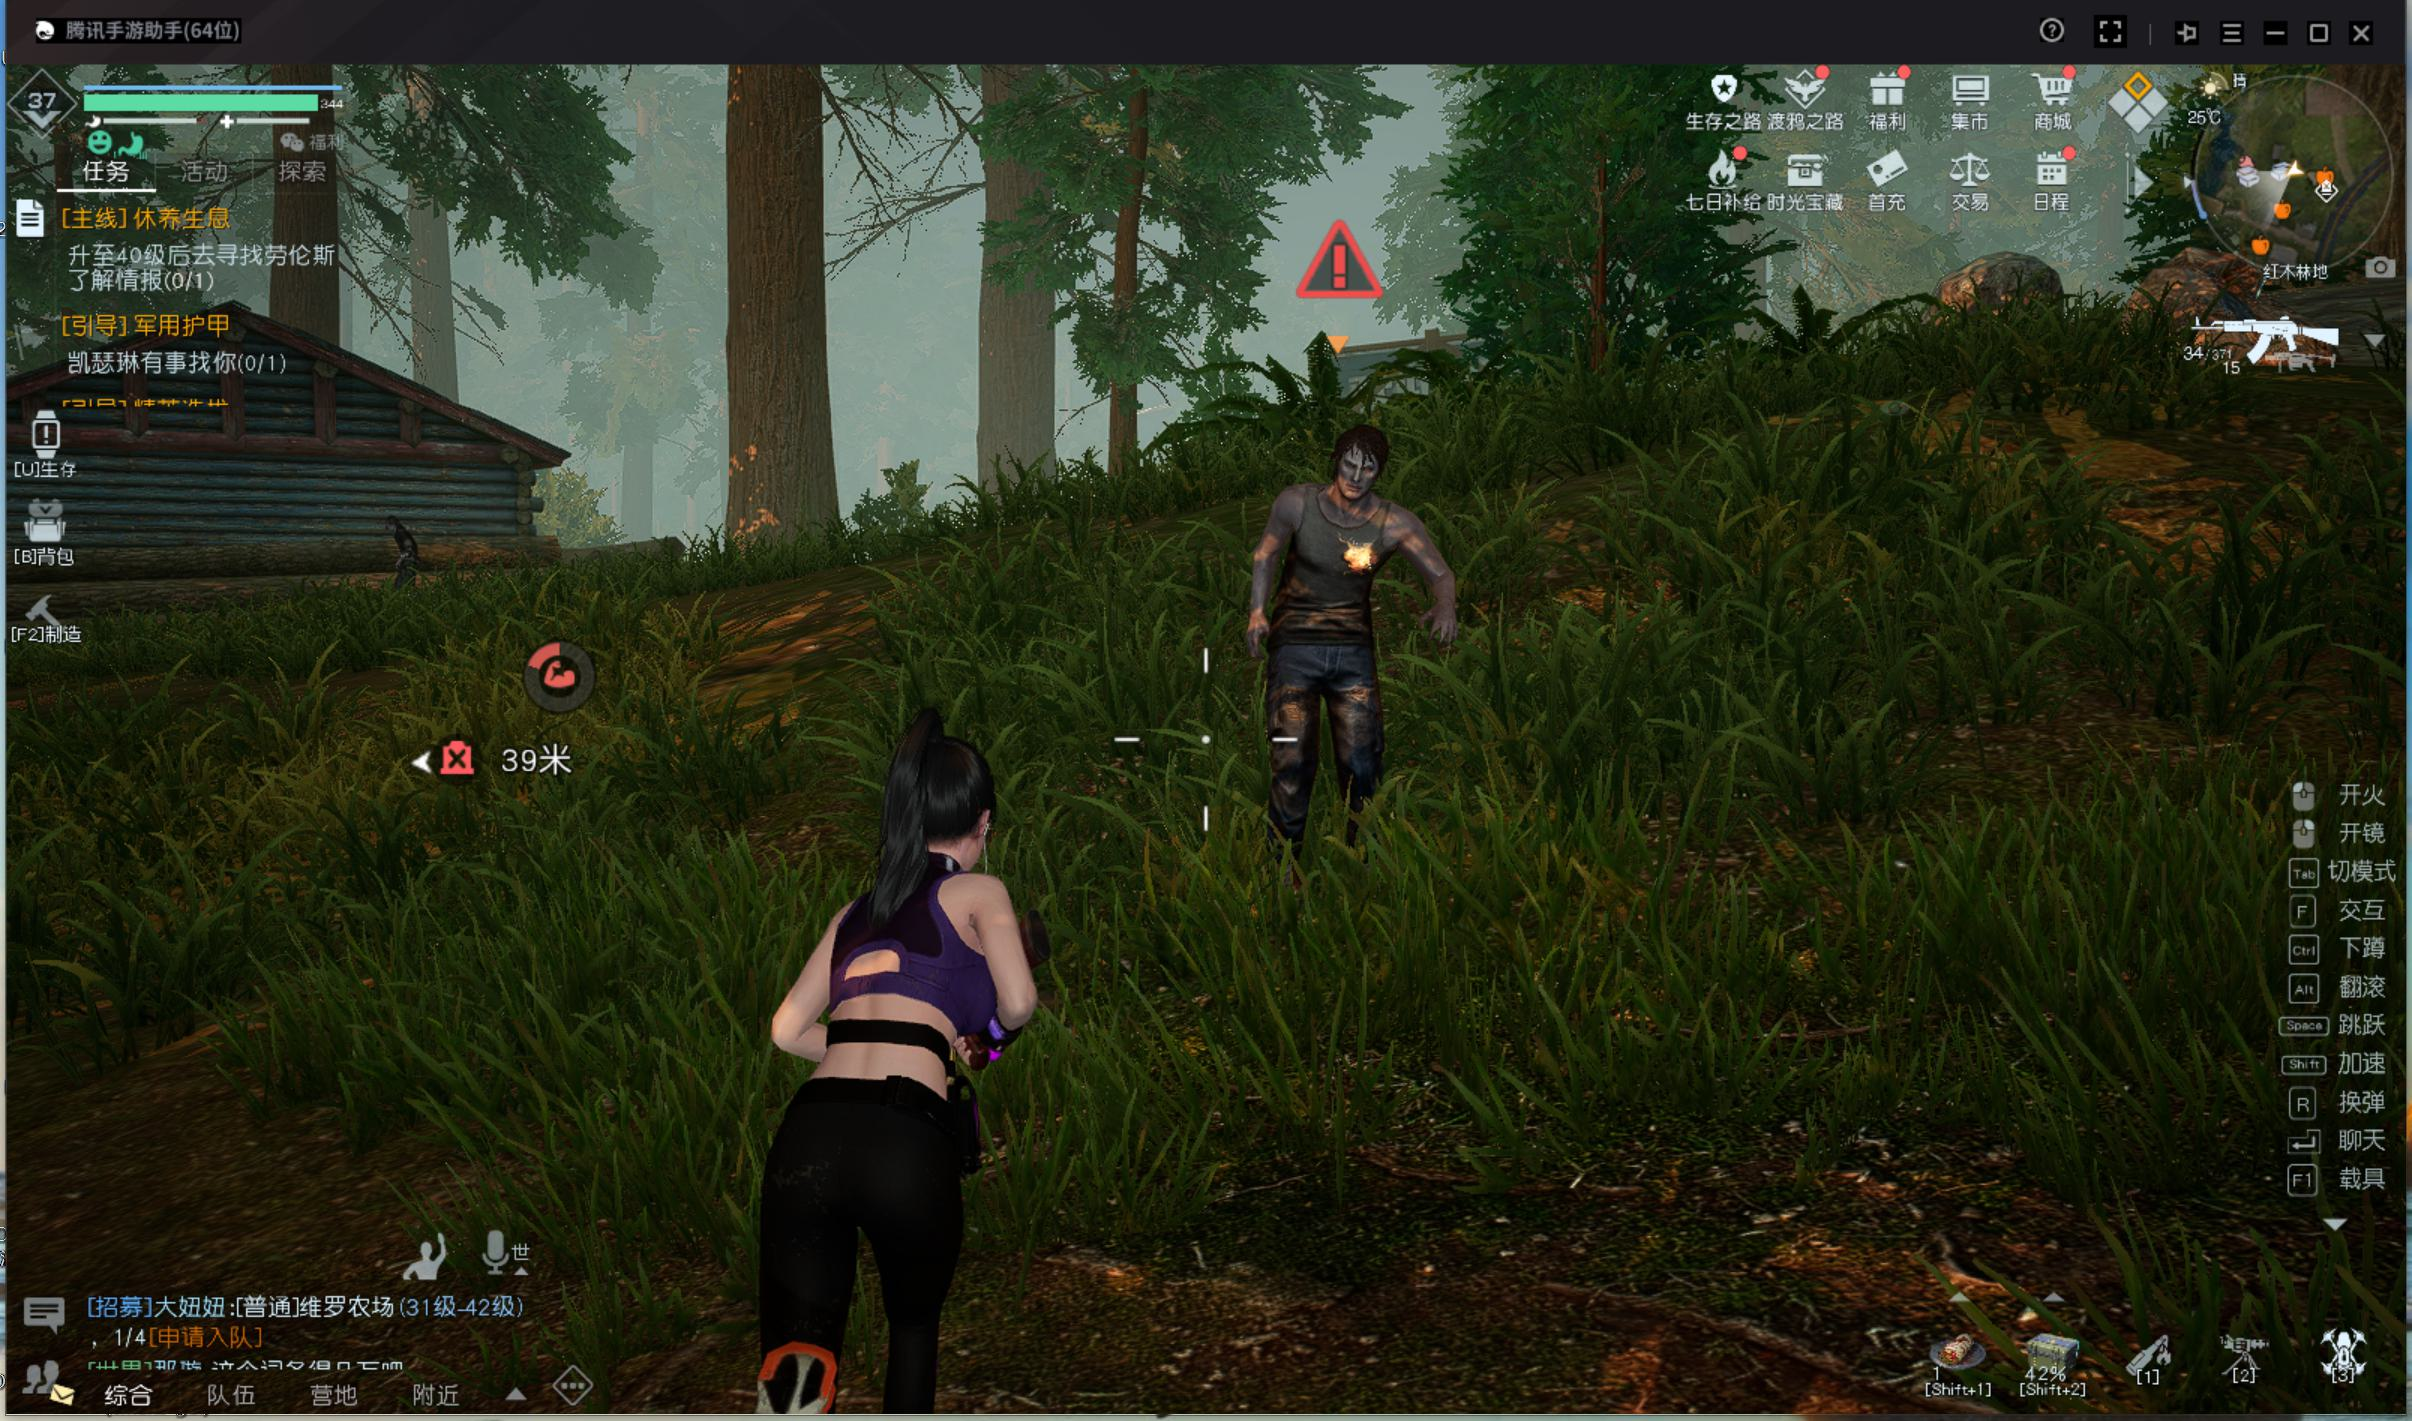tree: (704, 107, 851, 584), (952, 122, 1076, 536)
